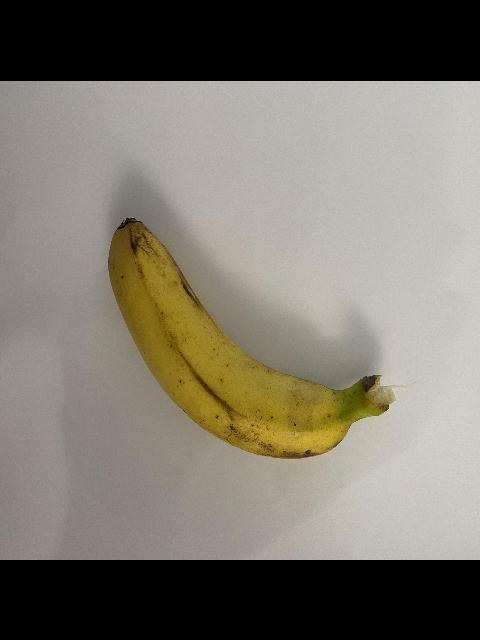banana: (107, 215, 398, 460)
